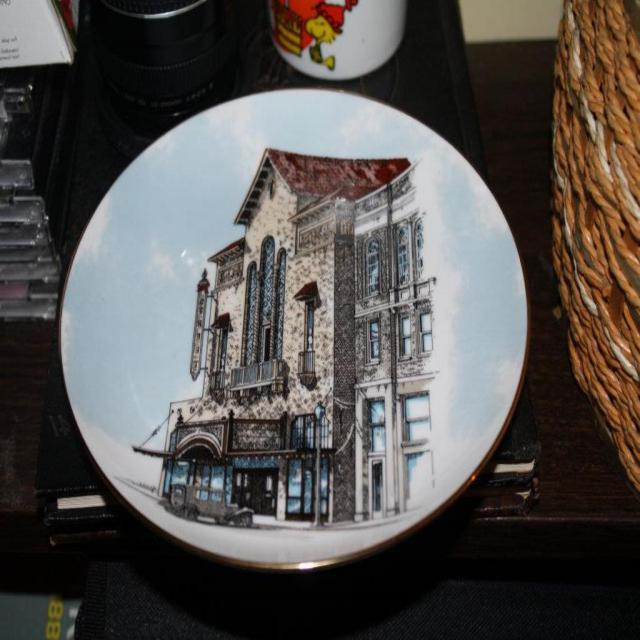ceramic plate: (48, 79, 534, 592)
